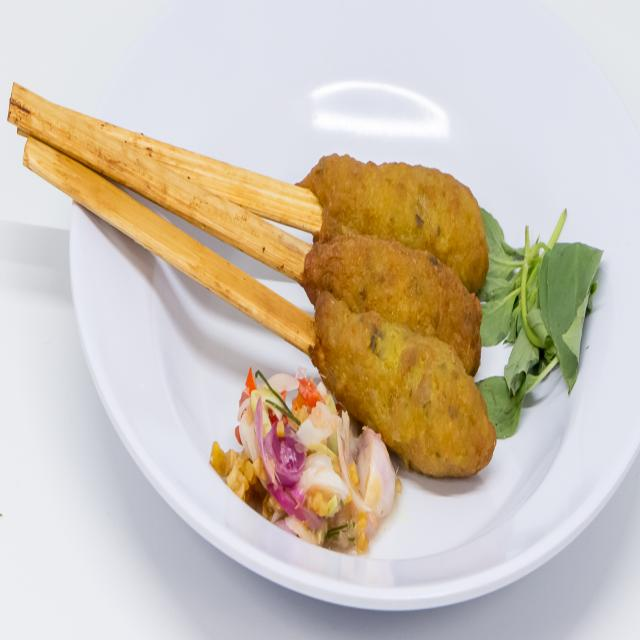Sate-Lilit: (197, 87, 578, 565)
